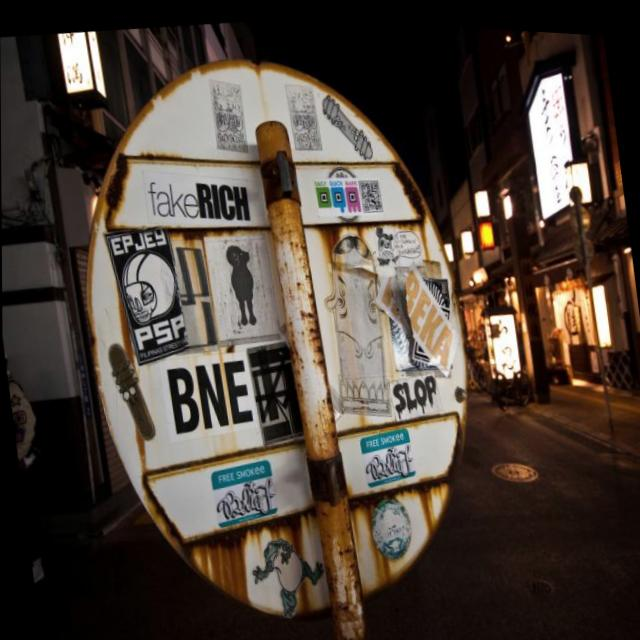qrcode: (361, 177, 382, 208)
